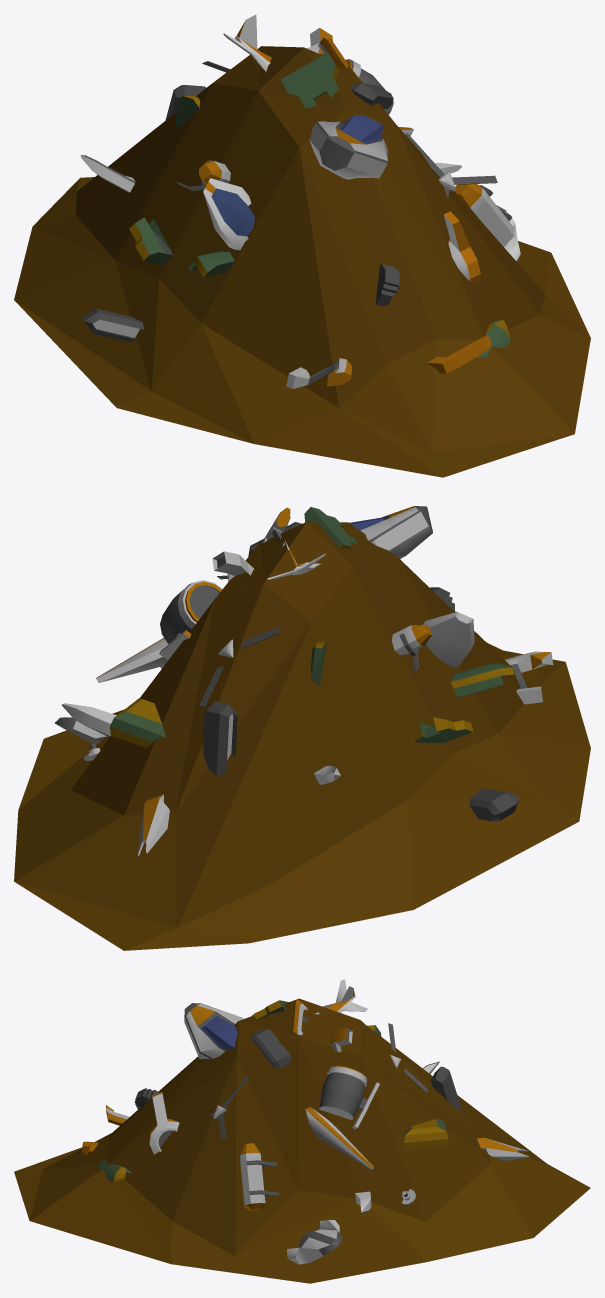
The model's file is prop_largejunkpile2.fbx.
The picture shows the model from 3 angles, top to bottom: view 1: azimuth 30°, elevation 25°; view 2: azimuth 150°, elevation 25°; view 3: azimuth 270°, elevation 25°; orthographic projection. The views are drawn at different scales.
Visible parts, largest first — view 1: pPlane1, mini_coptor_built:pCube1, prop_junkedclawheli:polySurface10, pCube3, mini_coptor_built:polySurface8, junkedtank:pCube8, prop_junkedclawheli:polySurface14, junkedtank:pCube3, mini_coptor_built:polySurface6, prop_junkedclawheli:polySurface16, prop_junkedclawheli:polySurface11, mini_coptor_built:pCube10 (+6 smaller); view 2: pPlane1, mini_coptor_built:pCube1, mini_coptor_built:polySurface10, junkedtank:pCube6, prop_junkedclawheli:polySurface10, junkedtank:pCube1, junkedtank:pCube11, junkedtank:pCube8, pCube4, mini_coptor_built:polySurface6, junkedtank:pCube3, mini_coptor_built:polySurface7 (+5 smaller); view 3: pPlane1, mini_coptor_built:pCube1, mini_coptor_built:polySurface10, mini_coptor_built:polySurface8, prop_junkedclawheli:polySurface12, junkedtank:pCube1, prop_junkedclawheli:polySurface14, junkedtank:pCube5, pCube4, junkedtank:pCube6, prop_junkedclawheli:polySurface11, pCube11 (+1 smaller).
Part boxes in pixels (left/top/right/bottom): pPlane1: left=14, top=46, right=590, bottom=477; mini_coptor_built:pCube1: left=309, top=115, right=413, bottom=179; prop_junkedclawheli:polySurface10: left=203, top=178, right=254, bottom=250; pCube3: left=280, top=53, right=341, bottom=108; mini_coptor_built:polySurface8: left=455, top=184, right=514, bottom=246; junkedtank:pCube8: left=81, top=308, right=143, bottom=342; prop_junkedclawheli:polySurface14: left=444, top=211, right=480, bottom=284; junkedtank:pCube3: left=129, top=217, right=173, bottom=264; mini_coptor_built:polySurface6: left=286, top=358, right=352, bottom=388; prop_junkedclawheli:polySurface16: left=427, top=334, right=491, bottom=373; prop_junkedclawheli:polySurface11: left=223, top=14, right=271, bottom=71; mini_coptor_built:pCube10: left=405, top=133, right=497, bottom=197; pPlane1: left=14, top=522, right=590, bottom=950; mini_coptor_built:pCube1: left=96, top=506, right=432, bottom=682; mini_coptor_built:polySurface10: left=159, top=580, right=222, bottom=660; junkedtank:pCube6: left=203, top=701, right=237, bottom=776; prop_junkedclawheli:polySurface10: left=422, top=612, right=474, bottom=668; junkedtank:pCube1: left=109, top=698, right=165, bottom=747; junkedtank:pCube11: left=451, top=662, right=514, bottom=697; junkedtank:pCube8: left=469, top=788, right=519, bottom=821; pCube4: left=138, top=794, right=169, bottom=856; mini_coptor_built:polySurface6: left=505, top=651, right=553, bottom=704; junkedtank:pCube3: left=412, top=717, right=473, bottom=743; mini_coptor_built:polySurface7: left=392, top=625, right=431, bottom=672; pPlane1: left=14, top=998, right=590, bottom=1283; mini_coptor_built:pCube1: left=184, top=1003, right=373, bottom=1169; mini_coptor_built:polySurface10: left=319, top=1065, right=379, bottom=1129; mini_coptor_built:polySurface8: left=240, top=1143, right=279, bottom=1210; prop_junkedclawheli:polySurface12: left=287, top=1220, right=342, bottom=1264; junkedtank:pCube1: left=403, top=1119, right=448, bottom=1148; prop_junkedclawheli:polySurface14: left=149, top=1091, right=179, bottom=1154; junkedtank:pCube5: left=251, top=1028, right=291, bottom=1068; pCube4: left=477, top=1137, right=529, bottom=1160; junkedtank:pCube6: left=430, top=1066, right=461, bottom=1110; prop_junkedclawheli:polySurface11: left=322, top=979, right=367, bottom=1012; pCube11: left=97, top=1160, right=132, bottom=1181.
Size of the model in its own units: 14.98 by 8.56 by 21.53.
